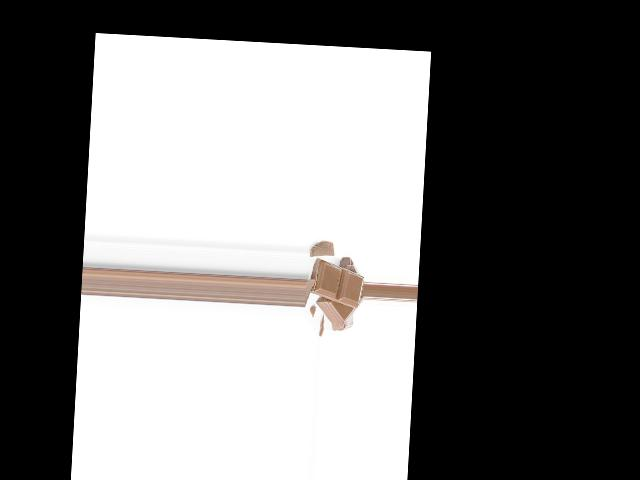chocolate: (310, 259, 362, 308)
